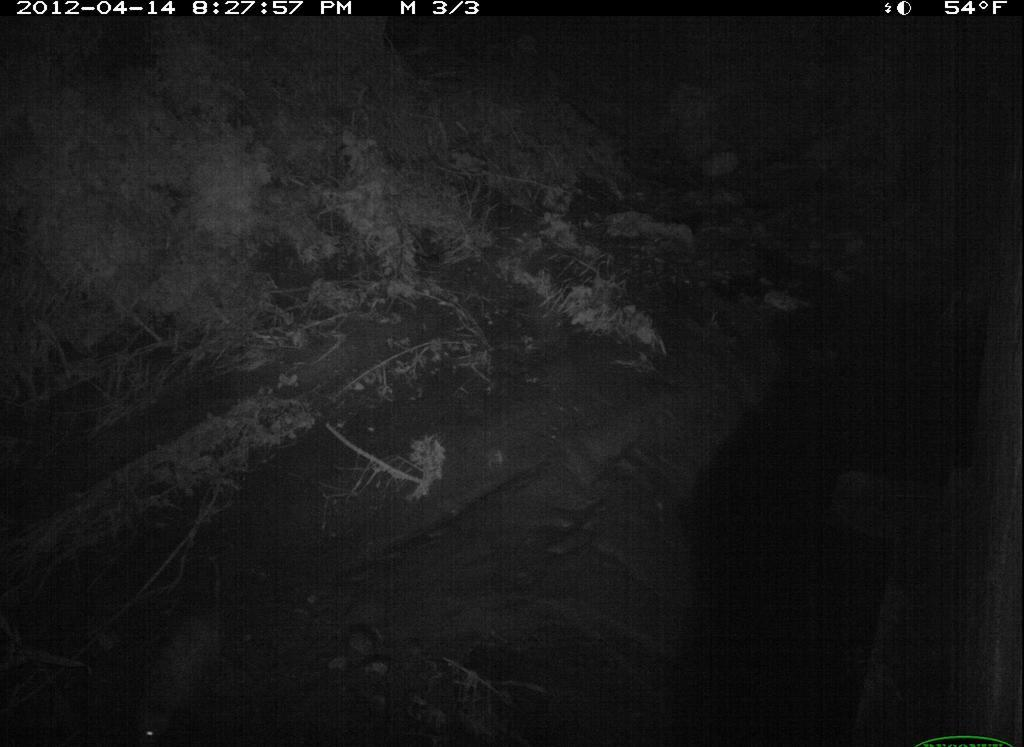opossum: (122, 591, 272, 747)
